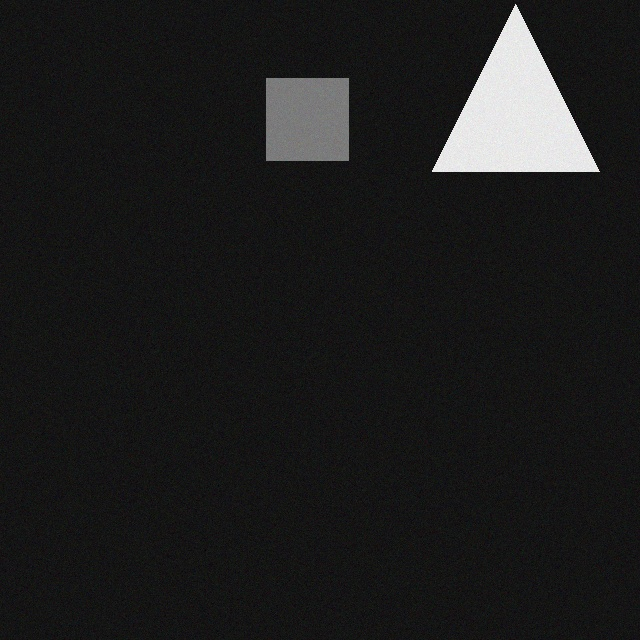square: (270, 78, 352, 160)
triangle: (436, 4, 603, 171)
